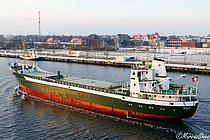Ship: (5, 46, 201, 131)
